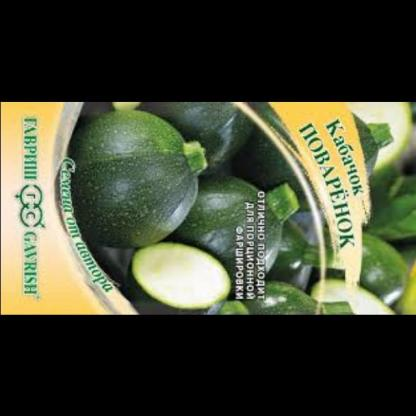vegetable marrow: (57, 101, 224, 244), (188, 163, 322, 308), (93, 225, 249, 314), (314, 221, 416, 314)
